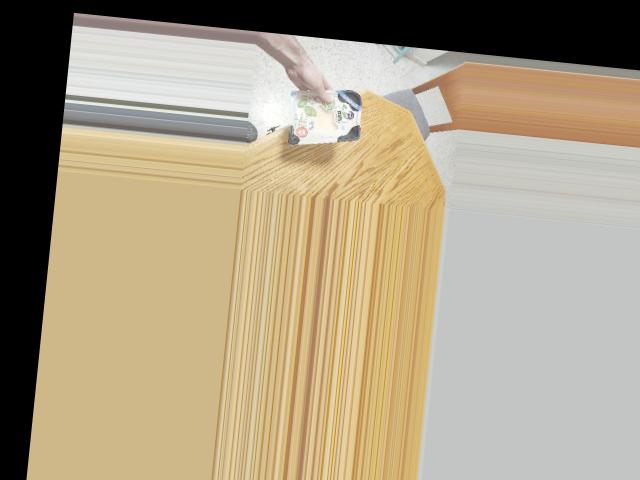cheese: (277, 80, 374, 152)
